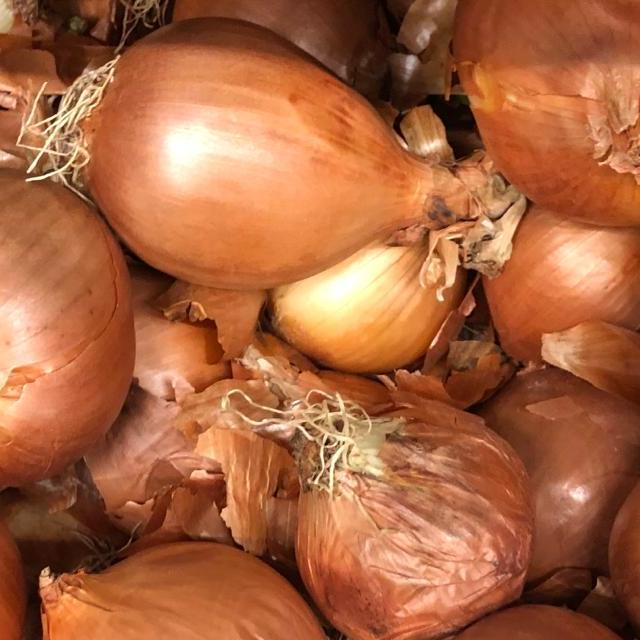onion: (32, 0, 485, 292), (0, 137, 152, 502), (435, 0, 640, 240), (5, 505, 360, 640)
